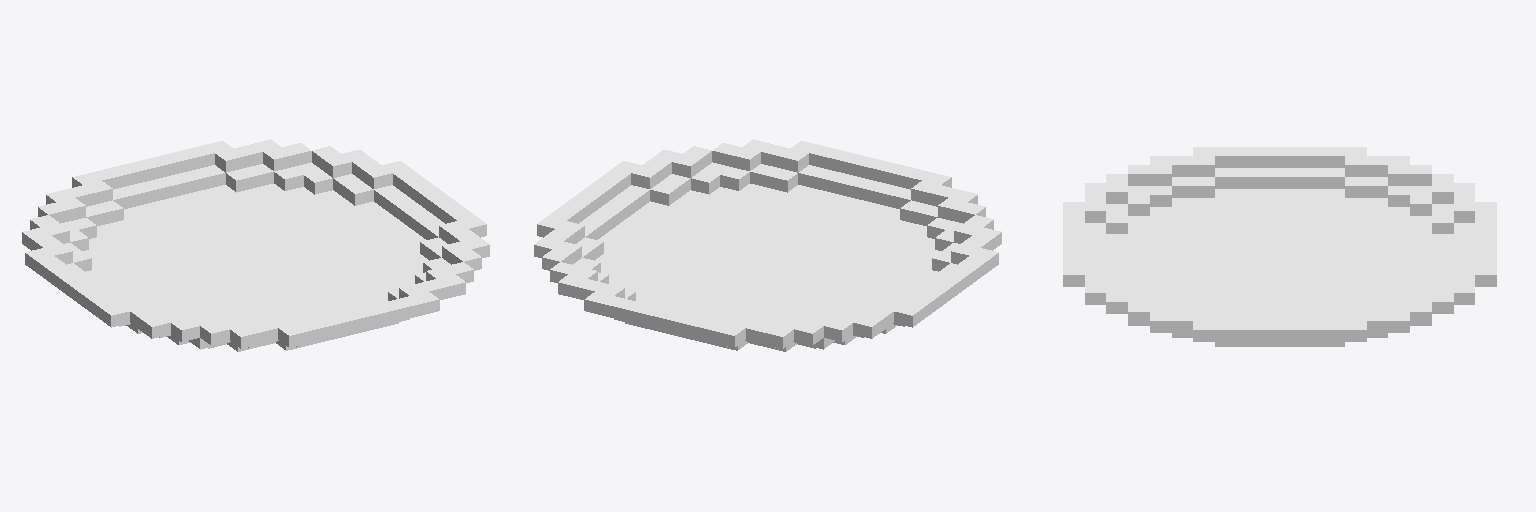
The model's file is Title-4.obj.
The picture shows the model from 3 angles: view 1: azimuth 30°, elevation 25°; view 2: azimuth 150°, elevation 25°; view 3: azimuth 270°, elevation 25°; orthographic projection.
Visible parts, largest first — view 1: object 1; view 2: object 1; view 3: object 1.
Part boxes in pixels (x1,y1,x2,y2): object 1: (22, 139, 489, 351); object 1: (534, 139, 1001, 351); object 1: (1063, 147, 1496, 346).
Size of the model in its own units: 10 by 0.9 by 10.